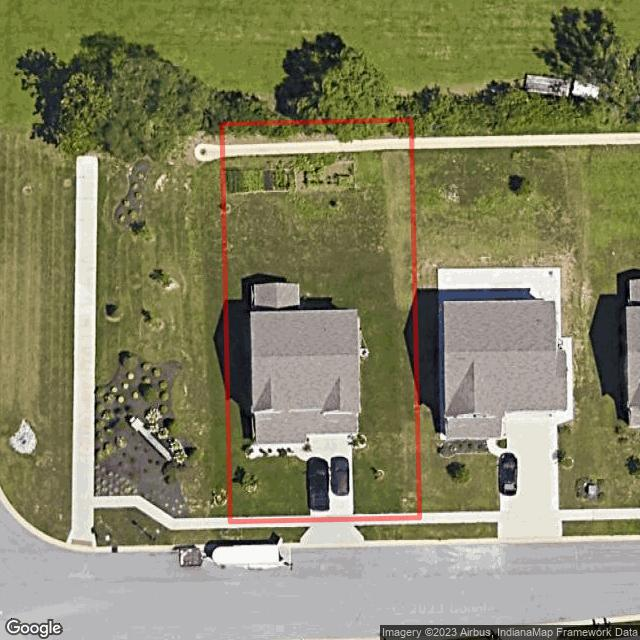Driveway: (251, 431, 356, 516)
Extra Driveway: (300, 522, 362, 544)
Extra Lawn: (232, 527, 310, 543), (354, 525, 421, 540)
Extra Sidewalk: (229, 515, 311, 531), (352, 514, 422, 525)
House: (251, 284, 360, 442)
